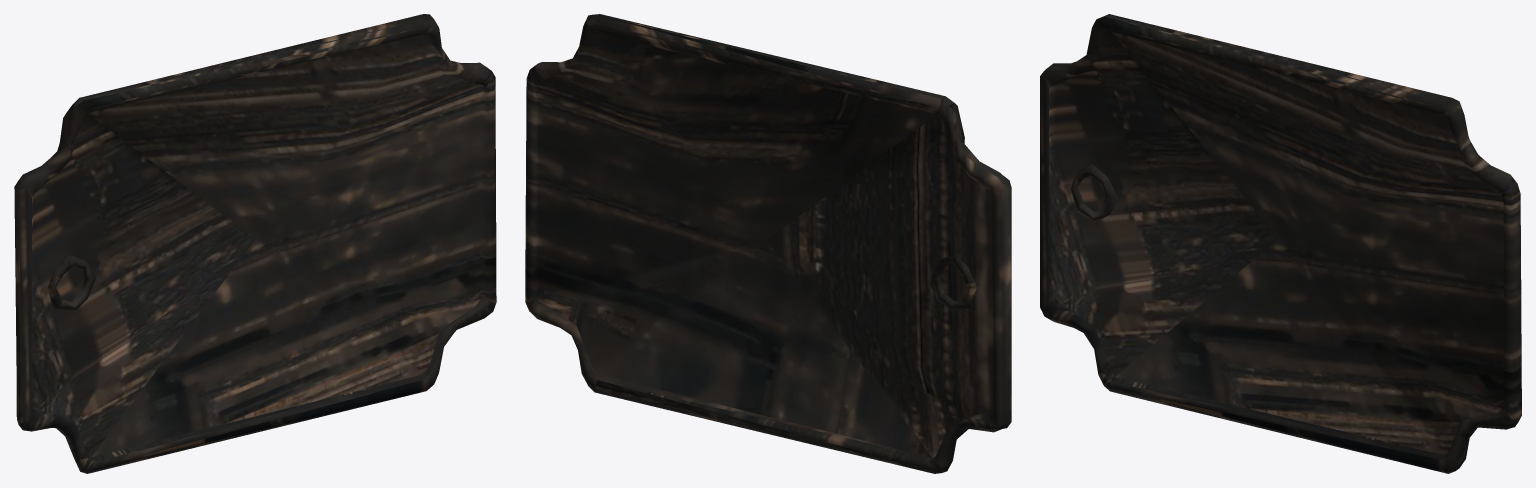
Rendered from RoomNumber1.fbx.
3 views of the same model, side by side, from view 1: azimuth 30°, elevation 25°; view 2: azimuth 150°, elevation 25°; view 3: azimuth 330°, elevation 25° (orthographic).
Visible parts, largest first — view 1: RoomNumber1; view 2: RoomNumber1; view 3: RoomNumber1.
Boxes of the visible parts, left/top/right/bottom form: RoomNumber1: left=14, top=14, right=496, bottom=473; RoomNumber1: left=525, top=14, right=1011, bottom=473; RoomNumber1: left=1040, top=14, right=1521, bottom=473.
Bounding box in the file's own units: 170 × 127 × 6.52.
